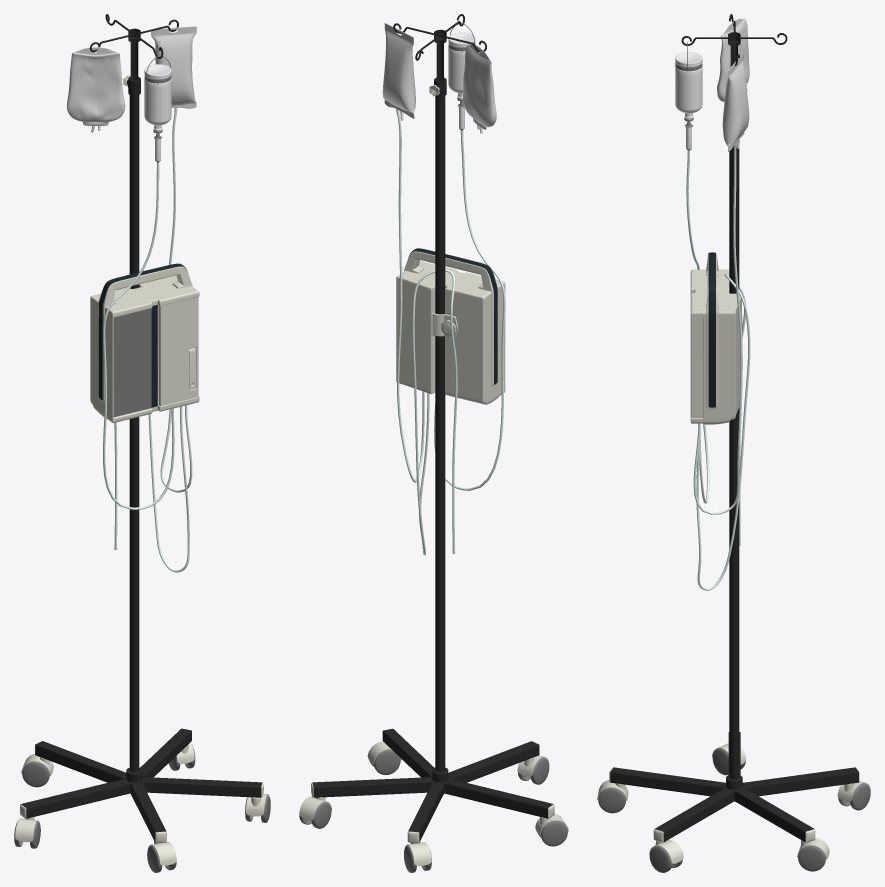
The model's file is kroplowka.FBX.
The picture shows the model from 3 angles, left to right: view 1: azimuth 30°, elevation 25°; view 2: azimuth 150°, elevation 25°; view 3: azimuth 270°, elevation 25°; orthographic projection.
Parts seen in each view (by area): view 1: Archmodels70_022_02, Archmodels70_022_09, Archmodels70_022_01, Archmodels70_022_07, Archmodels70_022_04, Archmodels70_022_08, Archmodels70_022_10, Archmodels70_022_11; view 2: Archmodels70_022_09, Archmodels70_022_02, Archmodels70_022_08, Archmodels70_022_07, Archmodels70_022_04, Archmodels70_022_11, Archmodels70_022_01, Archmodels70_022_10; view 3: Archmodels70_022_09, Archmodels70_022_02, Archmodels70_022_08, Archmodels70_022_07, Archmodels70_022_11, Archmodels70_022_04, Archmodels70_022_10, Archmodels70_022_01.
Part boxes in pixels (box(x1,y1,x2,y2)): Archmodels70_022_02: box(90, 263, 199, 422); Archmodels70_022_09: box(21, 14, 262, 842); Archmodels70_022_01: box(67, 47, 125, 125); Archmodels70_022_07: box(103, 56, 174, 509); Archmodels70_022_04: box(151, 26, 196, 108); Archmodels70_022_08: box(114, 112, 192, 572); Archmodels70_022_10: box(15, 75, 268, 865); Archmodels70_022_11: box(14, 745, 270, 872); Archmodels70_022_09: box(312, 14, 553, 842); Archmodels70_022_02: box(396, 248, 505, 404); Archmodels70_022_08: box(397, 114, 457, 555); Archmodels70_022_07: box(434, 23, 505, 490); Archmodels70_022_04: box(382, 23, 415, 118); Archmodels70_022_11: box(299, 749, 567, 872); Archmodels70_022_01: box(463, 44, 496, 129); Archmodels70_022_10: box(299, 85, 568, 865); Archmodels70_022_09: box(610, 14, 858, 842); Archmodels70_022_02: box(690, 252, 742, 424); Archmodels70_022_08: box(693, 147, 750, 590); Archmodels70_022_07: box(675, 42, 709, 503); Archmodels70_022_11: box(598, 748, 870, 872); Archmodels70_022_04: box(722, 52, 749, 151); Archmodels70_022_10: box(597, 83, 870, 863); Archmodels70_022_01: box(717, 18, 749, 101).
Size of the model in its own units: 21.59 by 71.33 by 22.36.
